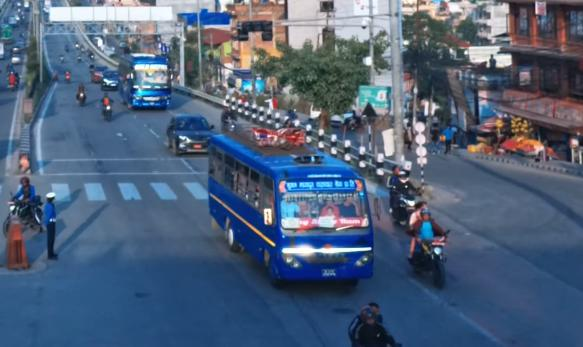bike: (404, 224, 454, 293)
bus: (202, 112, 383, 291), (116, 48, 173, 110), (166, 113, 217, 156)
